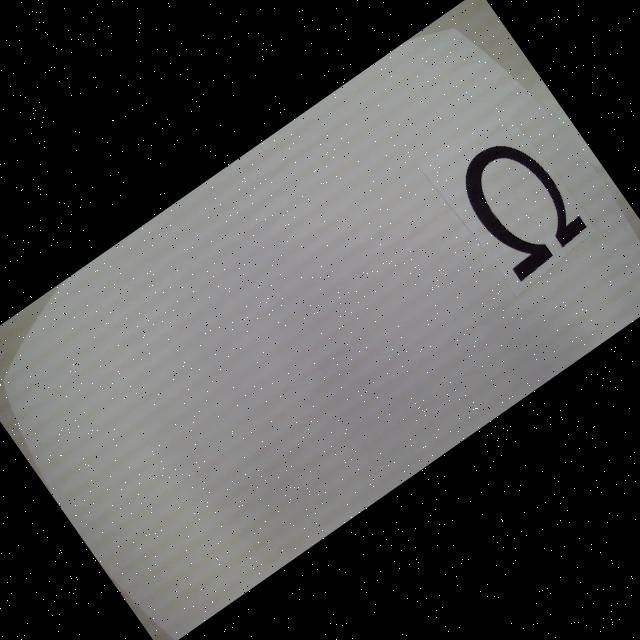OMEGA: (446, 125, 592, 281)
